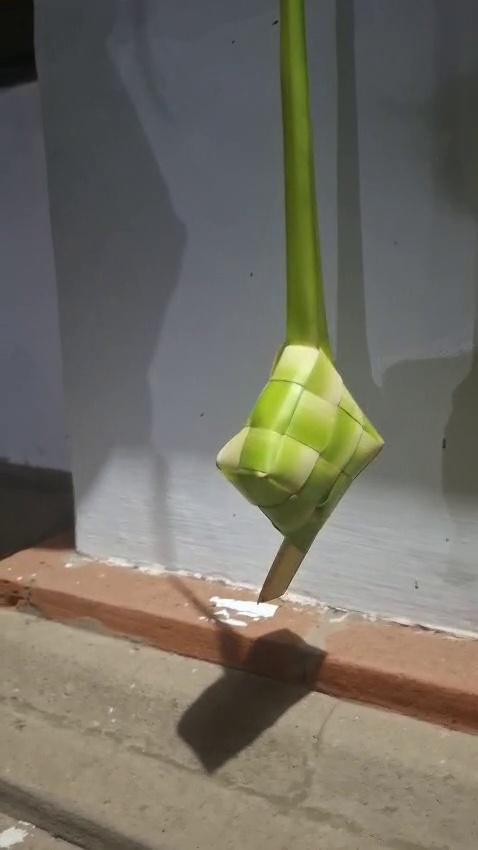Tipat Nasi: (201, 338, 393, 607)
